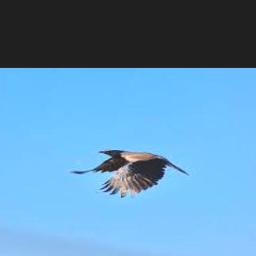Crow: (69, 149, 189, 197)
